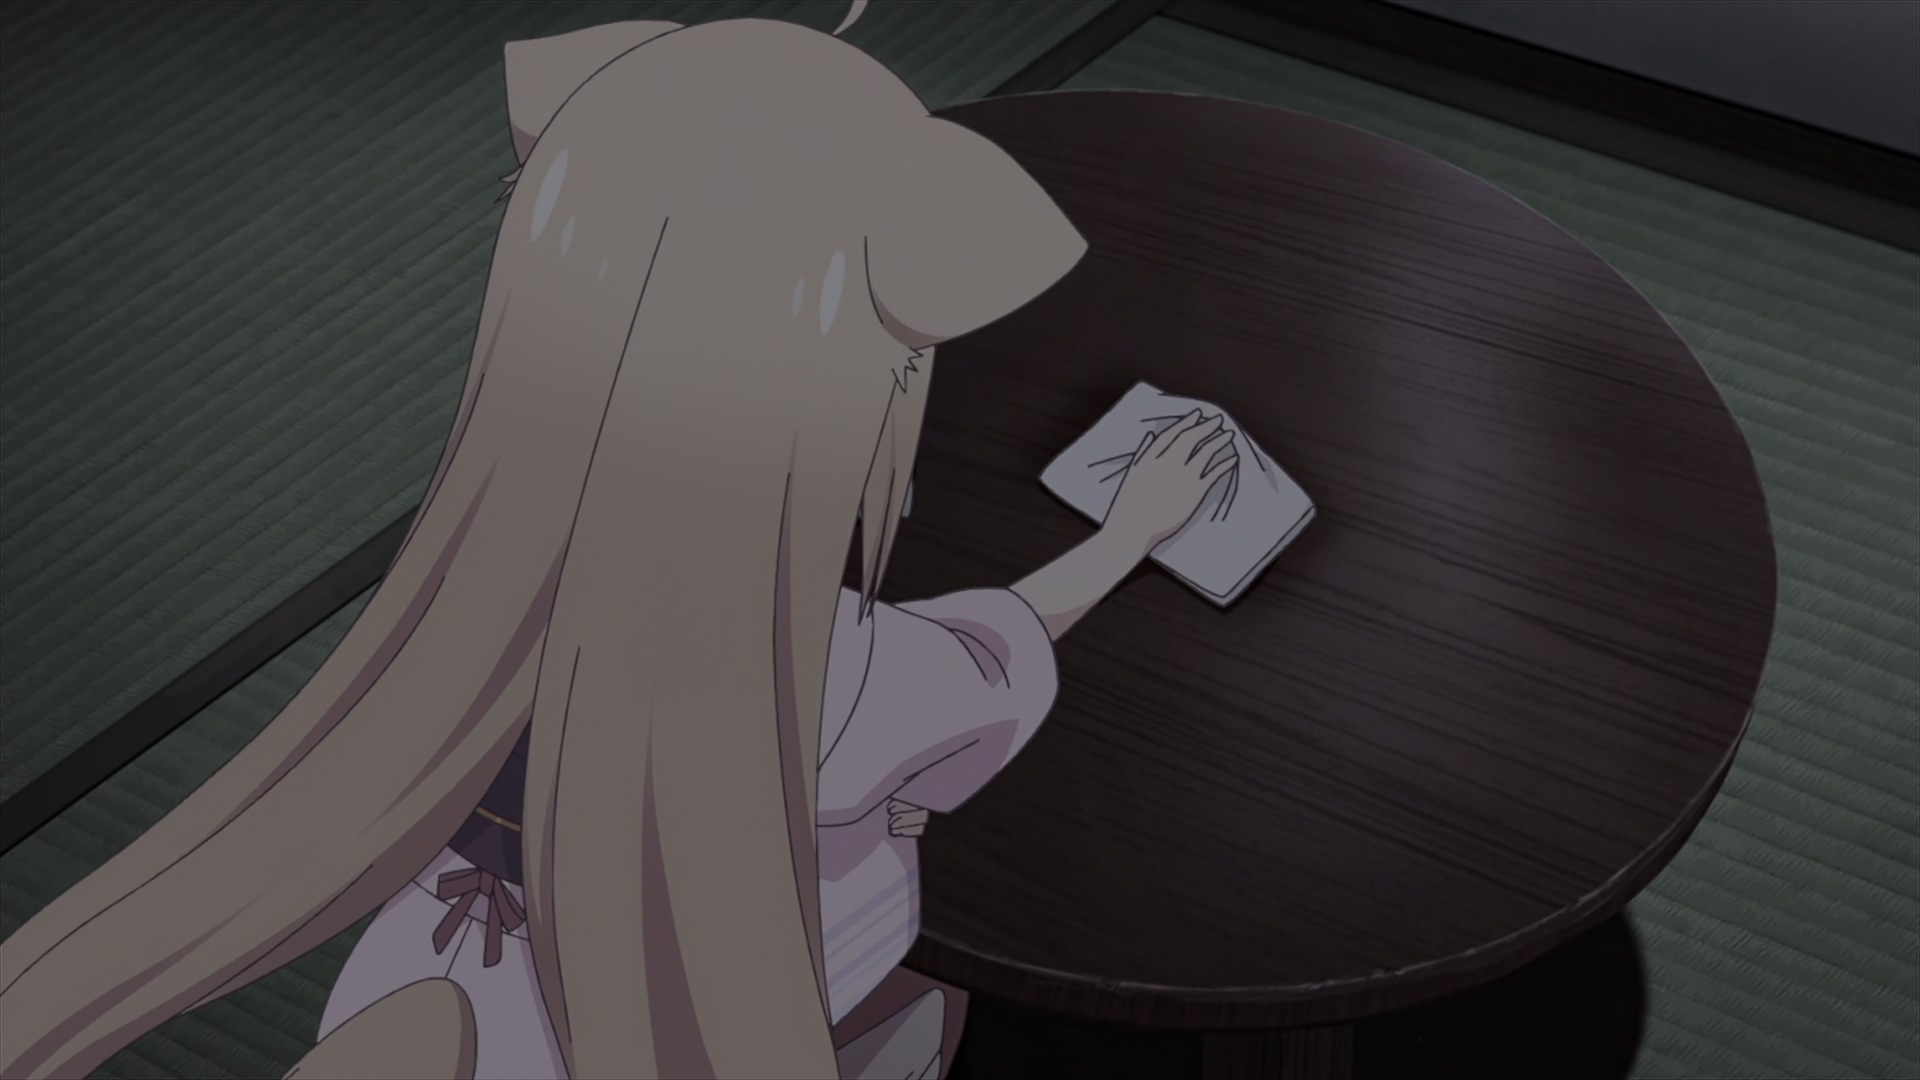柚: (1, 1, 1234, 1080)
